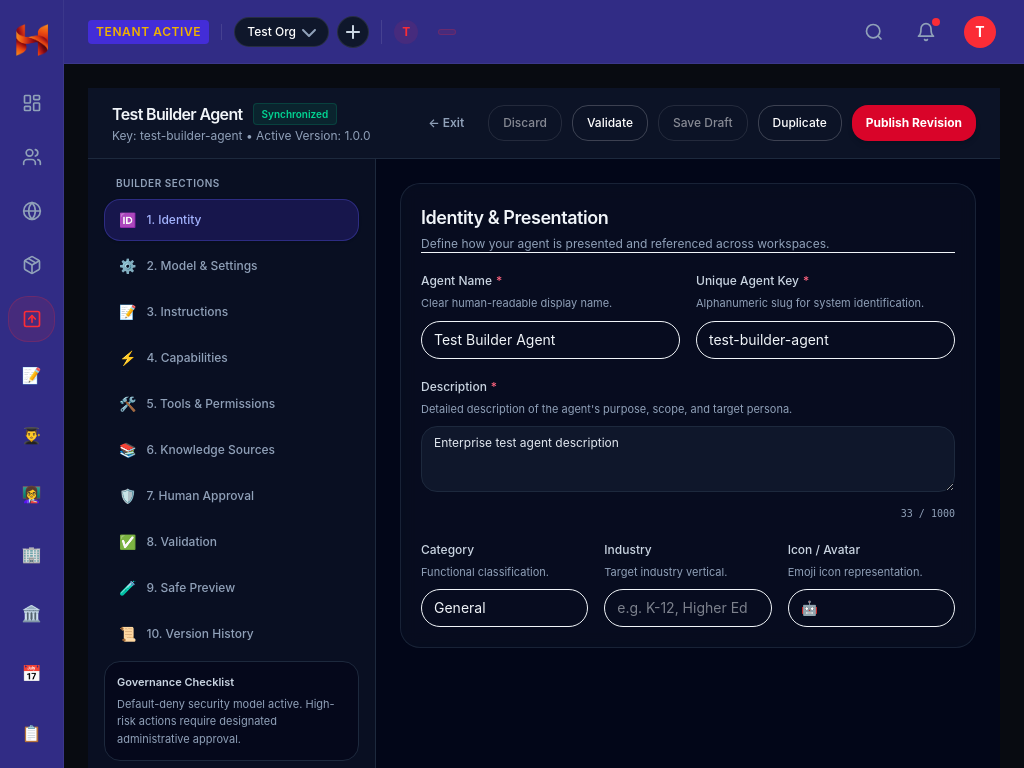
Test: Epic 13 - AI Agent Visual Builder Page › should detect unsaved draft edits when modifying a field and allow discard
Expected: the text "Synchronized" is shown, x1=253 y1=103 x2=337 y2=125
Replace the text in the text box showing "Enterprise test agent description" with "Updated Agent Description" at (688, 459), box x1=421 y1=426 x2=955 y2=492
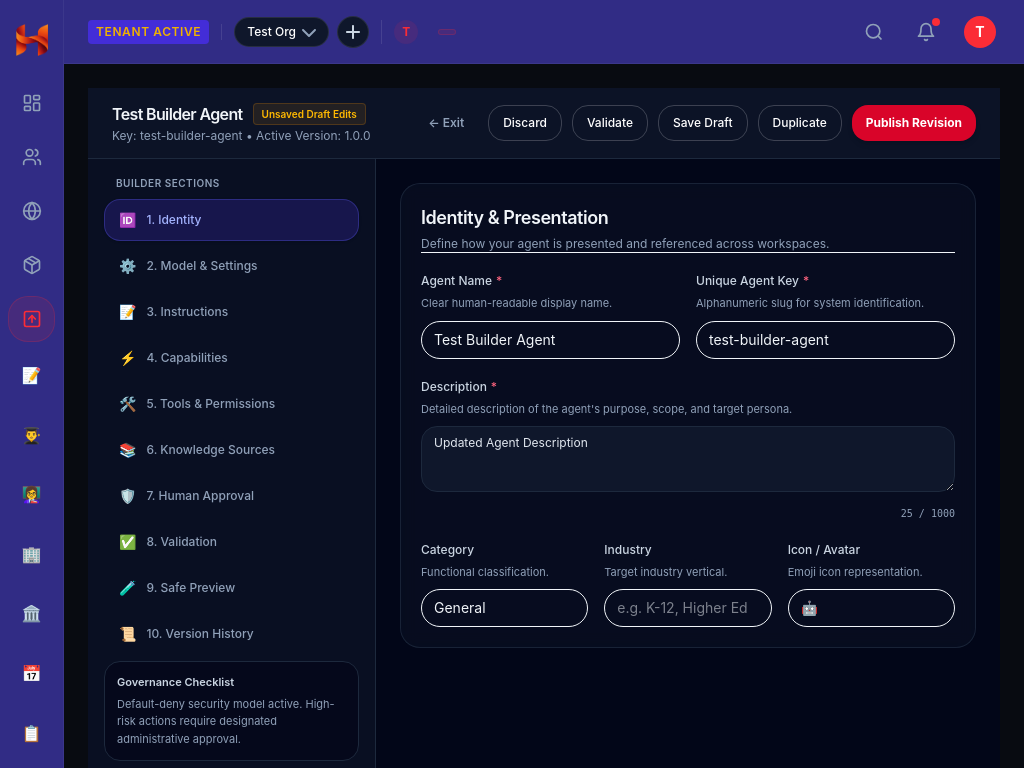
Result: the text "Unsaved Draft Edits" is shown at x1=253 y1=103 x2=366 y2=125
Click the button "Discard" at (525, 123), box x1=488 y1=105 x2=562 y2=141
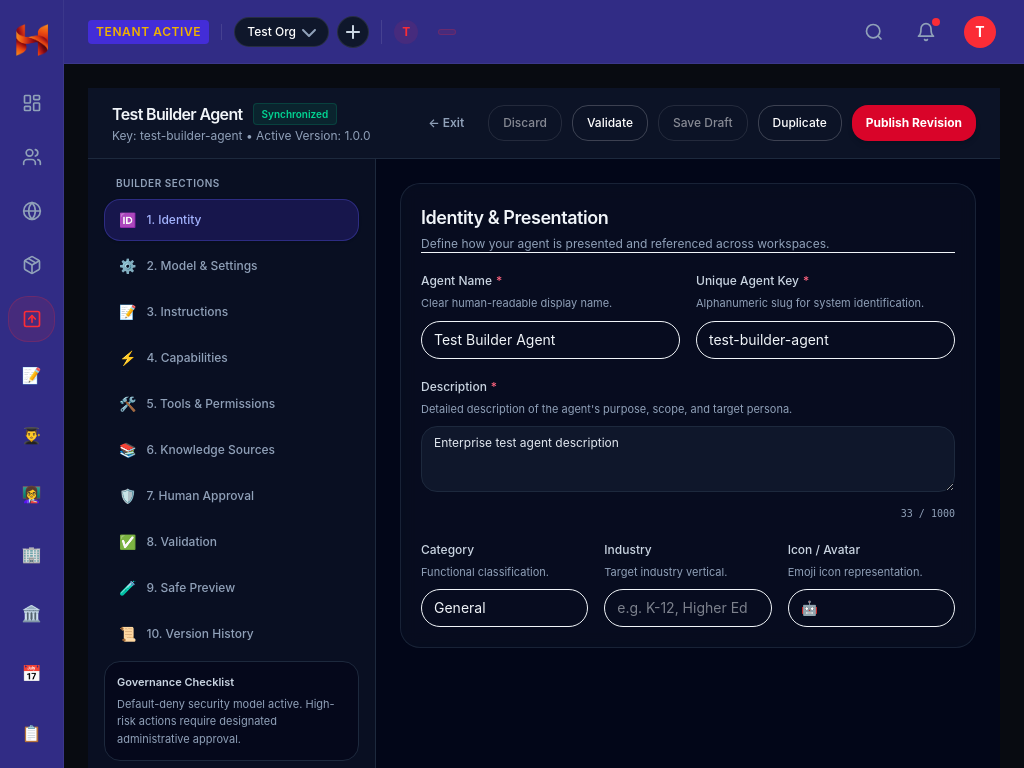
Result: the text "Synchronized" is shown at x1=253 y1=103 x2=337 y2=125
